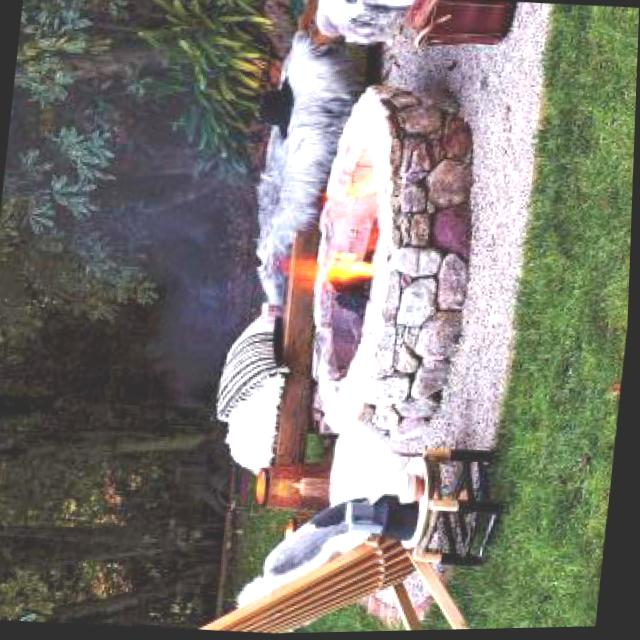Fire: (283, 243, 377, 295), (323, 170, 380, 211)
